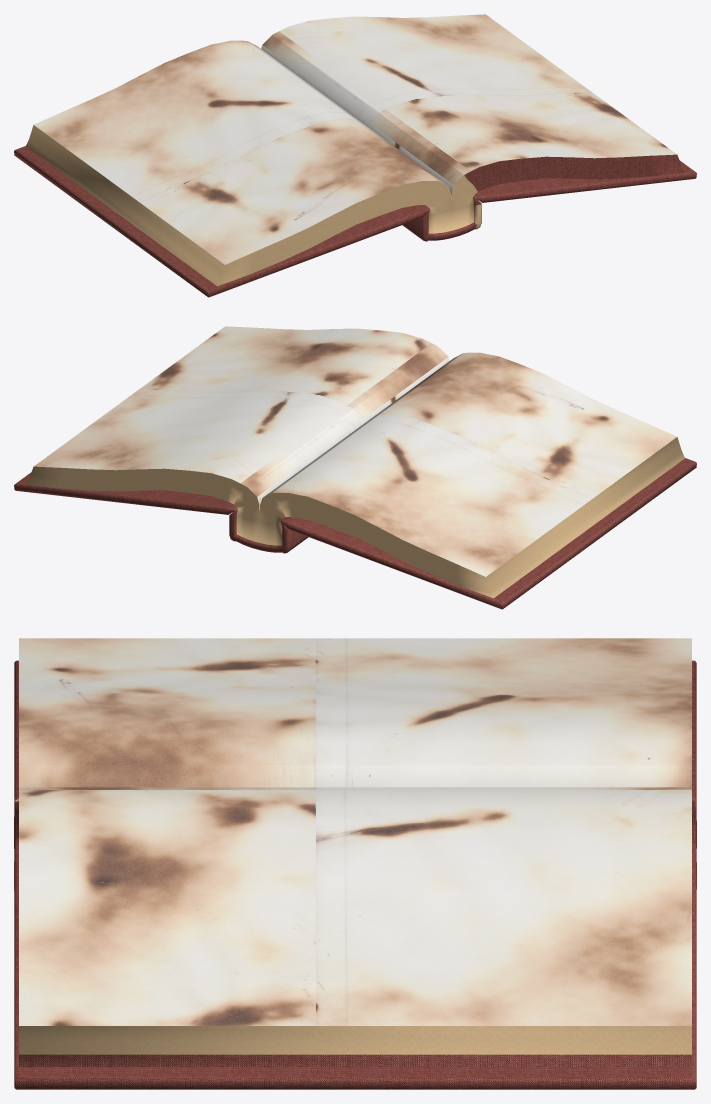
Rendered from diario-present.glb.
3 renders of one model, top to bottom at view 1: azimuth 30°, elevation 25°; view 2: azimuth 150°, elevation 25°; view 3: azimuth 270°, elevation 25°, orthographic. The views are drawn at different scales.
Visible parts, largest first — view 1: diario_present; view 2: diario_present; view 3: diario_present.
Part boxes in pixels (left/top/right/bottom): diario_present: left=14, top=14, right=696, bottom=297; diario_present: left=14, top=326, right=696, bottom=609; diario_present: left=14, top=638, right=696, bottom=1089.
Size of the model in its own units: 1.25 by 0.1611 by 0.8617.
Materials: 3 (3 with a texture image).
